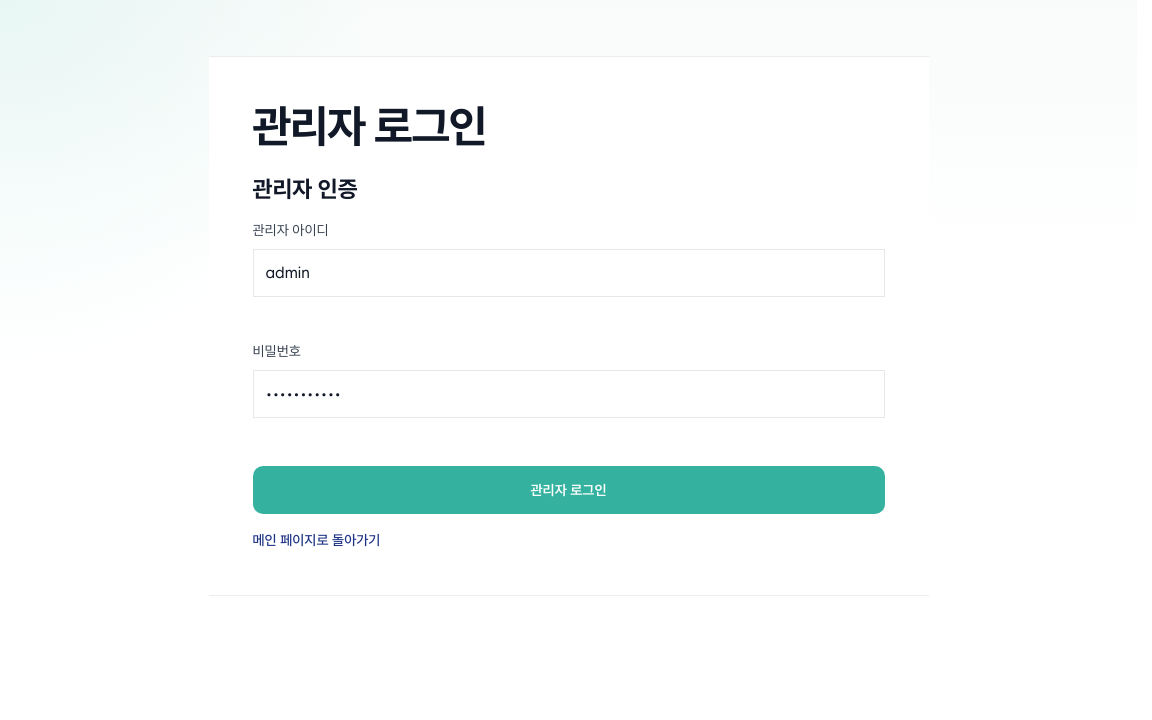
Scenario: AdminLoginPage › renders the admin login form and validates required fields
The width and height of the screenshot is (1152, 720).
expect the heading "관리자 로그인" is shown: met, box [252,99,486,153]
expect the password field labelled "비밀번호" holds "password123": met, box [252,370,884,418]
Clear the field labelled "관리자 아이디": (568, 273) [252,249,884,297]
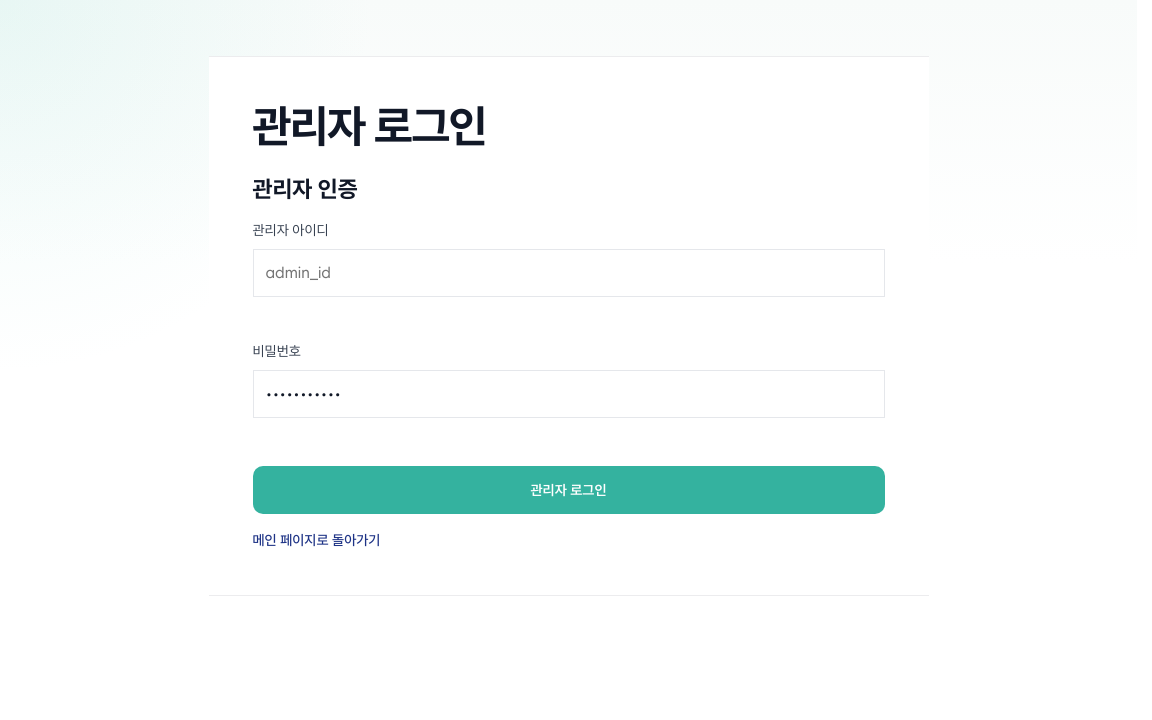
Clear the password field labelled "비밀번호": (568, 394) [252,370,884,418]
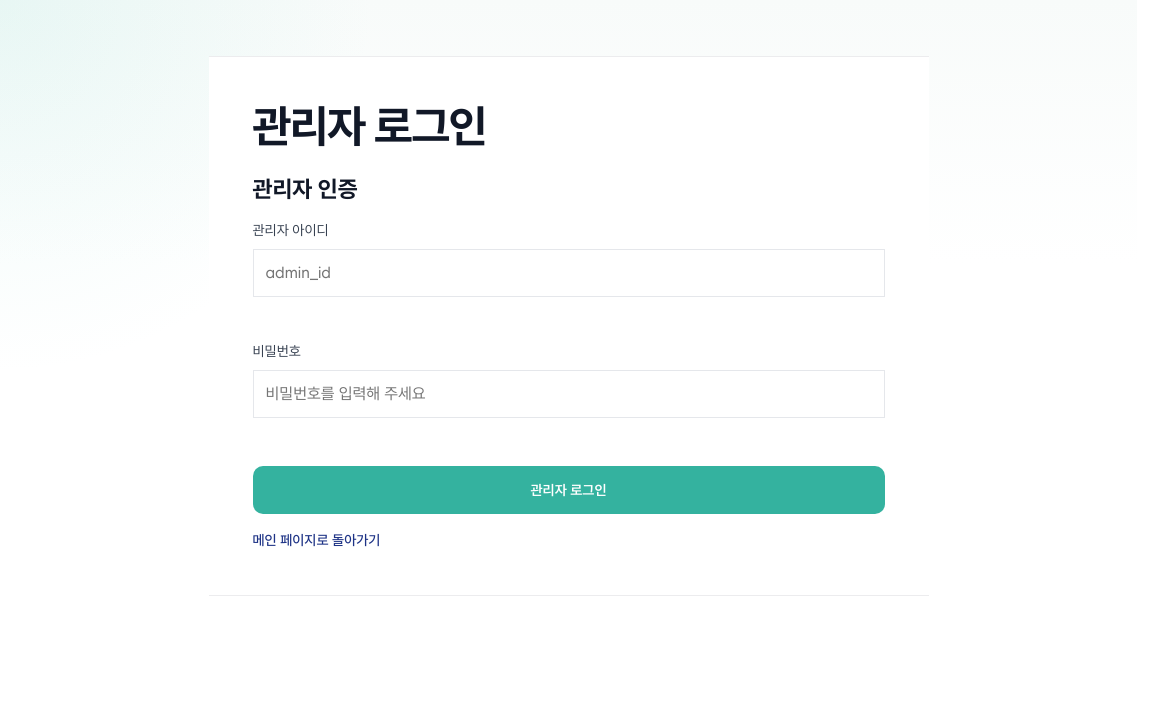
Click the button "관리자 로그인": (568, 490) [252,466,884,514]
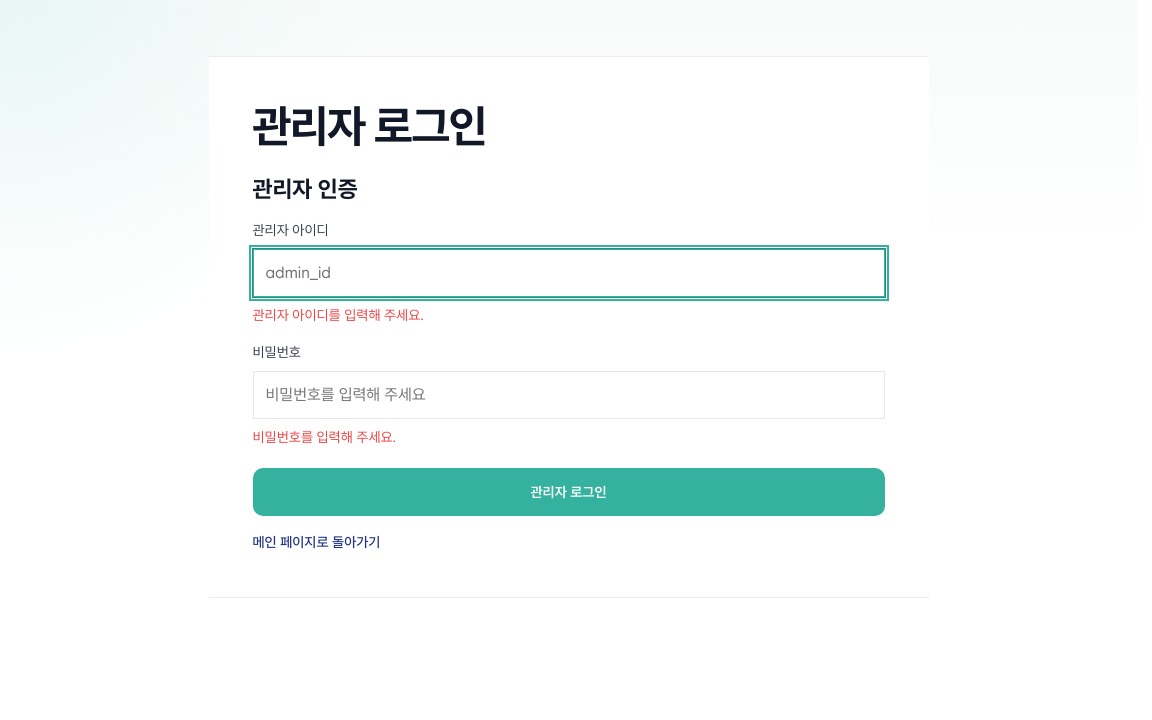
expect the text "관리자 아이디를 입력해 주세요." is shown: met, box [252,307,424,323]
expect the text "비밀번호를 입력해 주세요." is shown: met, box [252,429,396,445]
